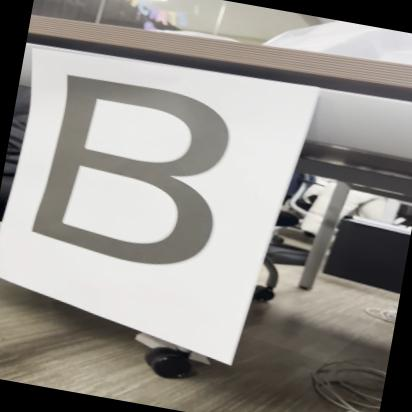seat: (7, 59, 250, 298)
